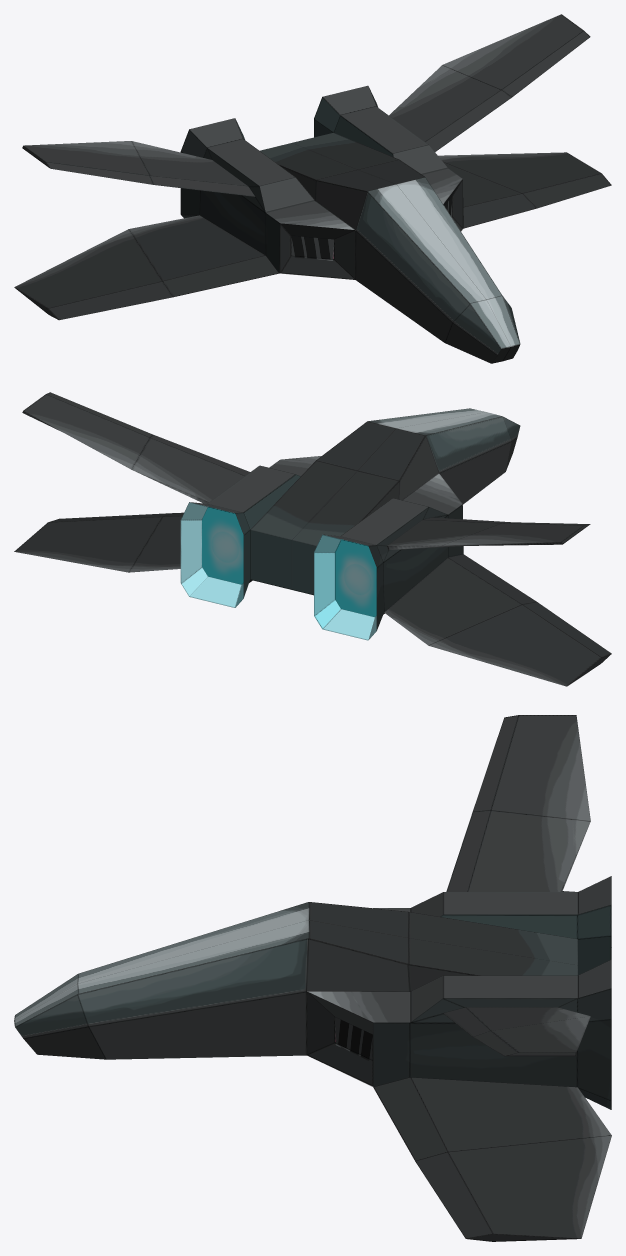
The model's file is DevShipT.obj.
The picture shows the model from 3 angles, top to bottom: view 1: azimuth 30°, elevation 25°; view 2: azimuth 150°, elevation 25°; view 3: azimuth 270°, elevation 25°; orthographic projection. The views are drawn at different scales.
Visible parts, largest first — view 1: Cube; view 2: Cube; view 3: Cube.
Part boxes in pixels (x1,y1,x2,y2): Cube: (14,14,611,363); Cube: (14,392,611,686); Cube: (14,715,611,1241).
Bounding box in the file's own units: 6.07 × 1.51 × 4.42.
Materials: 1 (1 with a texture image).
